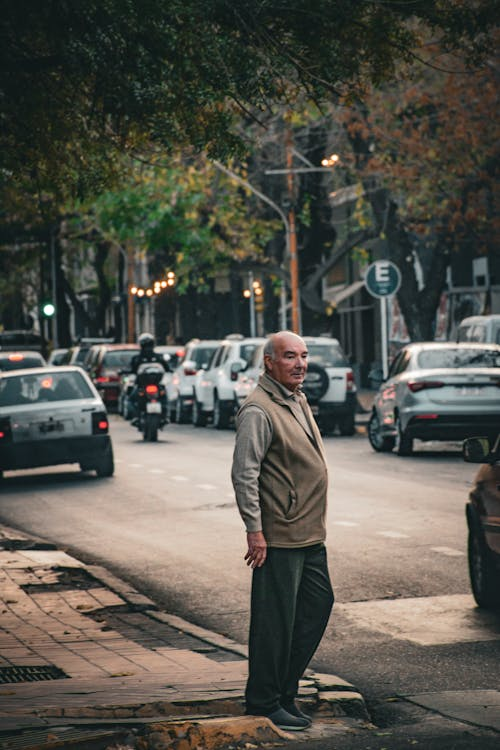car: (365, 339, 500, 457), (1, 358, 114, 484), (192, 334, 252, 425), (175, 339, 224, 418)
motor bike: (122, 360, 179, 445)
person: (236, 328, 343, 733), (124, 323, 179, 391)
